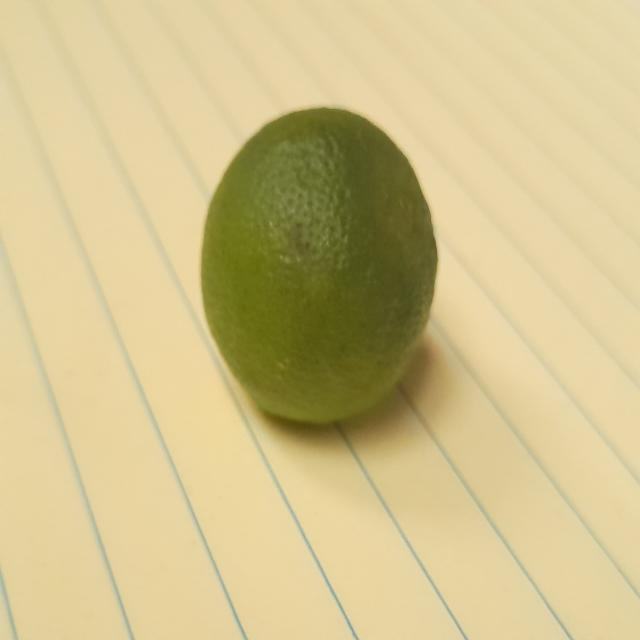heathy: (199, 110, 432, 443)
